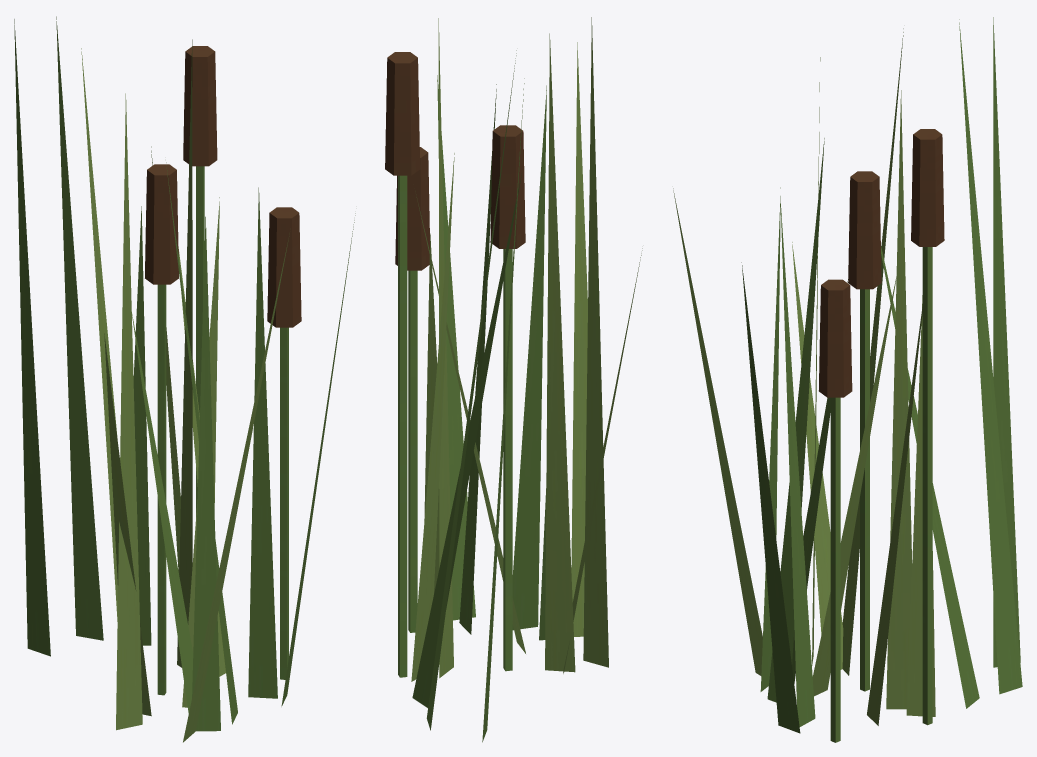
Rendered from reed_clump_01.glb.
3 renders of one model, left to right at view 1: azimuth 30°, elevation 25°; view 2: azimuth 150°, elevation 25°; view 3: azimuth 270°, elevation 25°, orthographic. The views are drawn at different scales.
Parts seen in each view (by area): view 1: reed_clump_01; view 2: reed_clump_01; view 3: reed_clump_01.
Boxes of the visible parts, x1,y1,x2,y2 form: reed_clump_01: (14,16,355,742); reed_clump_01: (385,17,642,742); reed_clump_01: (673,17,1022,742).
Size of the model in its own units: 0.6114 by 1.7 by 0.8359.
3 materials, 3 textured.
